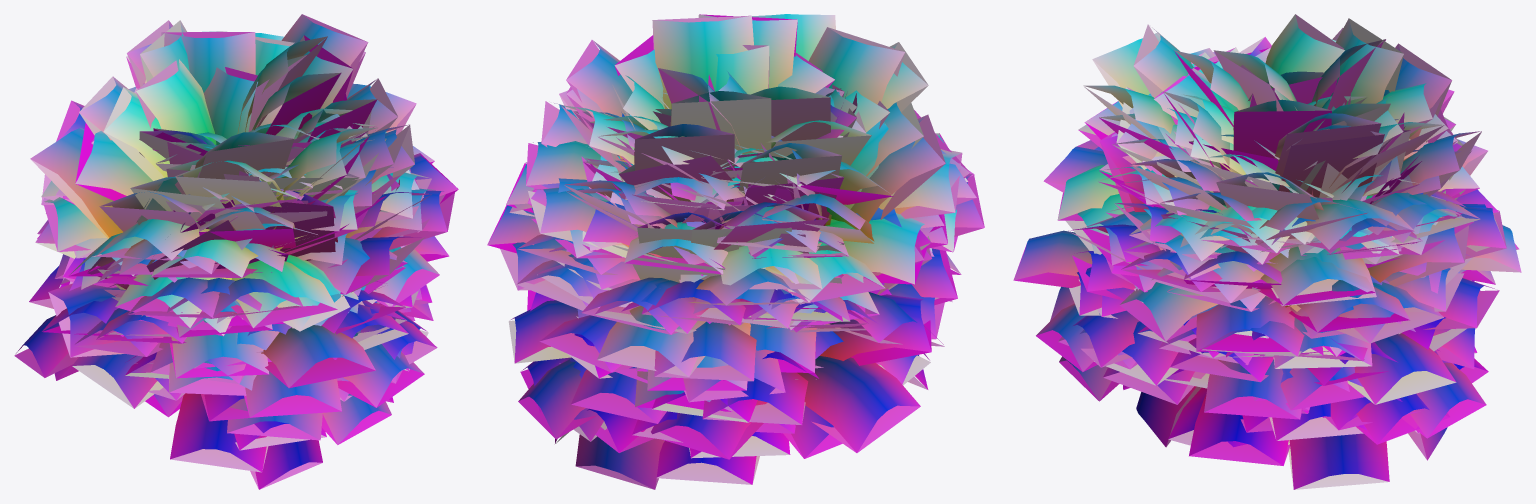
File: elm_02_3.fbx
3 renders of one model, left to right at view 1: azimuth 30°, elevation 25°; view 2: azimuth 150°, elevation 25°; view 3: azimuth 270°, elevation 25°, orthographic. The views are drawn at different scales.
Visible parts, largest first — view 1: elm_rought_leaves_02_3_lod_0, elm_rought_leaves_02_3_shadow; view 2: elm_rought_leaves_02_3_lod_0, elm_rought_leaves_02_3_shadow; view 3: elm_rought_leaves_02_3_lod_0, elm_rought_leaves_02_3_shadow.
Part boxes in pixels (<box>): elm_rought_leaves_02_3_lod_0: <box>15,14,458,489</box>; elm_rought_leaves_02_3_shadow: <box>14,14,457,489</box>; elm_rought_leaves_02_3_lod_0: <box>487,14,984,489</box>; elm_rought_leaves_02_3_shadow: <box>487,14,984,489</box>; elm_rought_leaves_02_3_lod_0: <box>1013,14,1521,489</box>; elm_rought_leaves_02_3_shadow: <box>1014,14,1520,489</box>.
Size of what is drawn, in the model's own units: 8.99 by 8.54 by 9.81.
